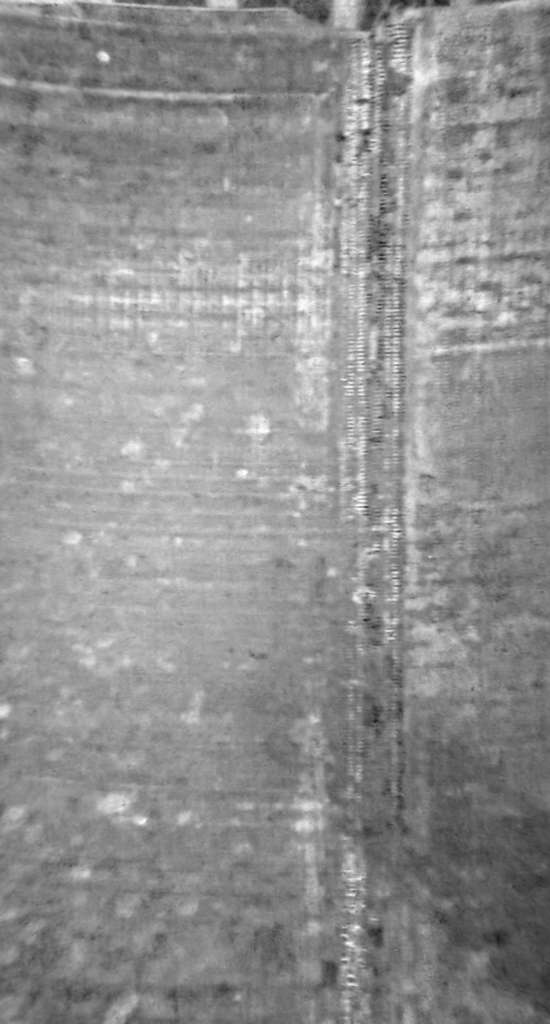splice: (320, 19, 417, 1024)
